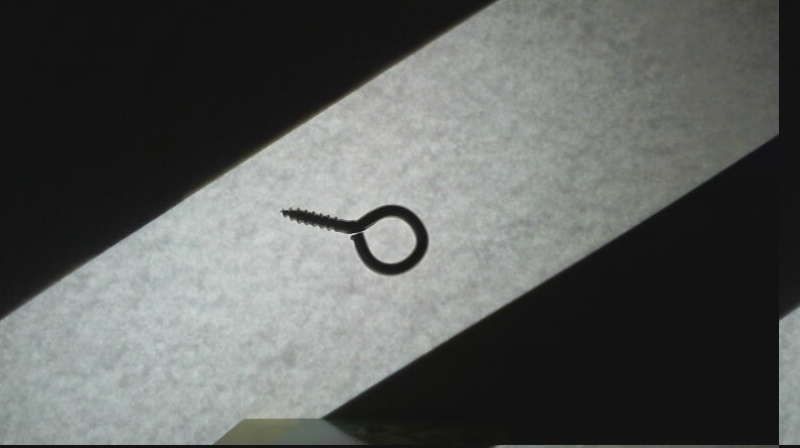O001: (276, 202, 431, 277)
